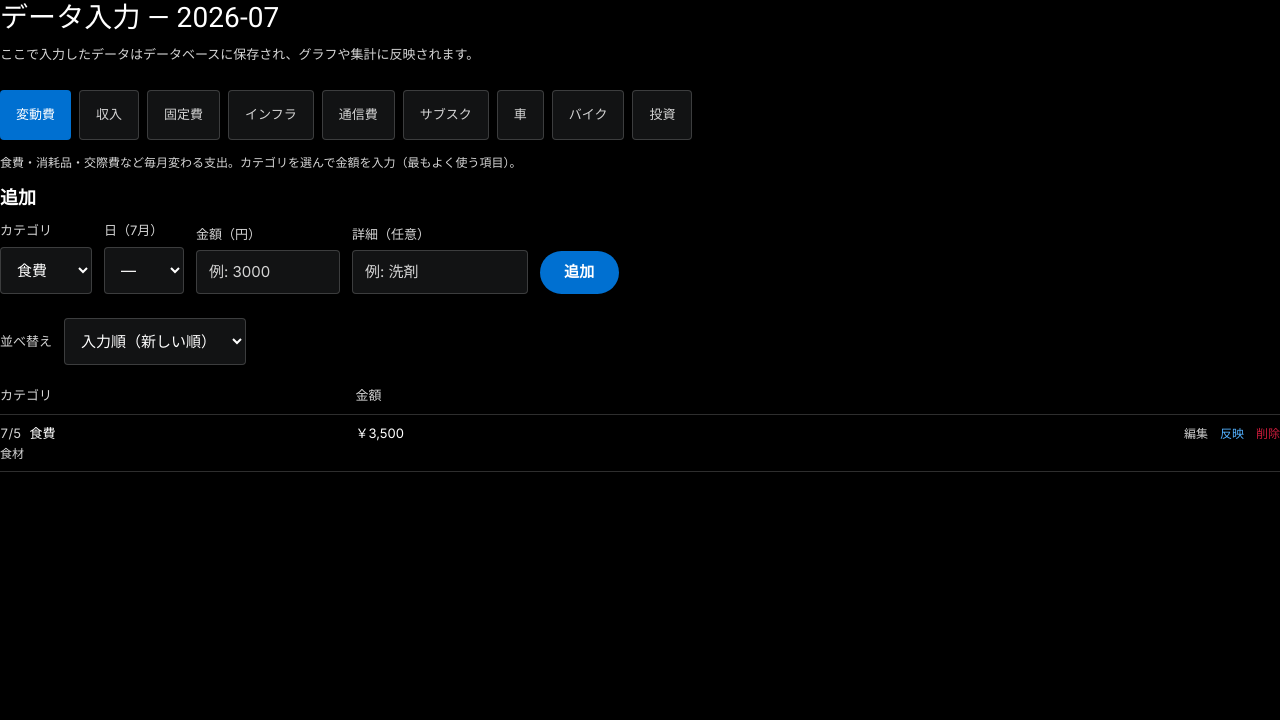
it: EntryTab - 割り勘アプリへの反映 › 反映に失敗したらダイアログ内にエラーを出し、一覧は変えない
The width and height of the screenshot is (1280, 720).
Click the button "反映": [1232, 433] box top-left (1220, 424), bottom-right (1244, 443)
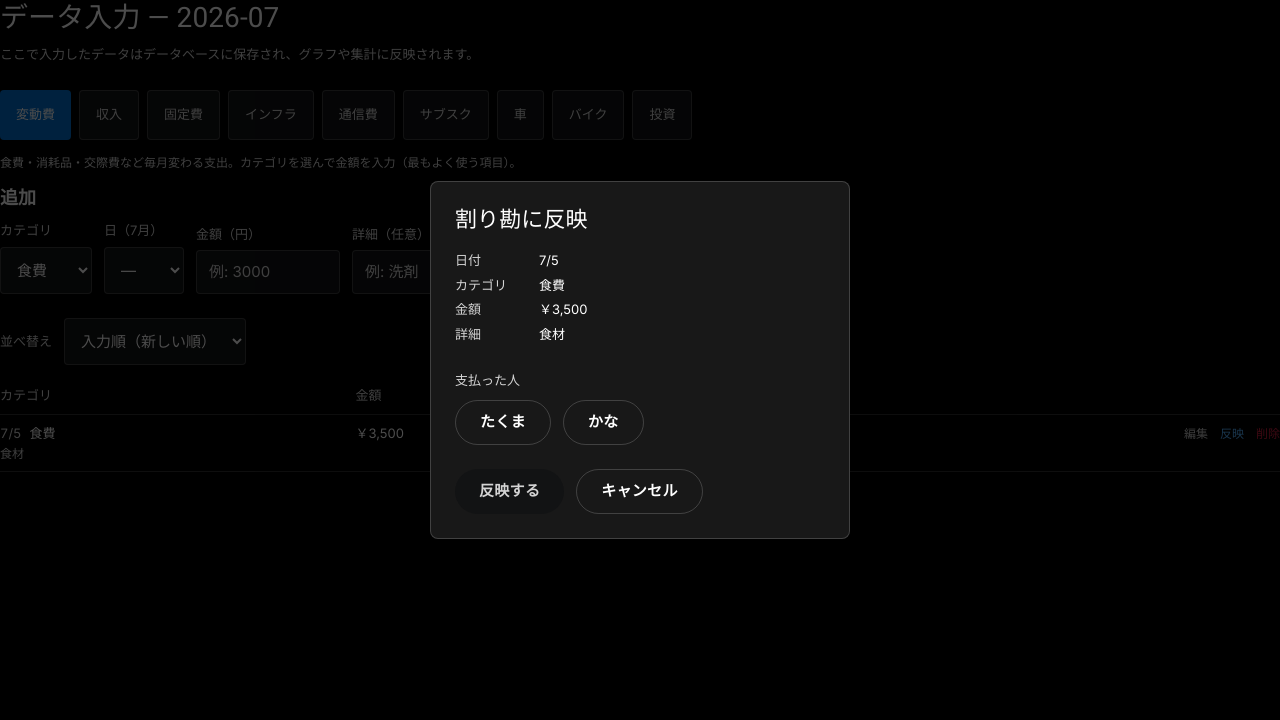
Click the radio button labelled "かな": [603, 423] box top-left (563, 400), bottom-right (644, 445)
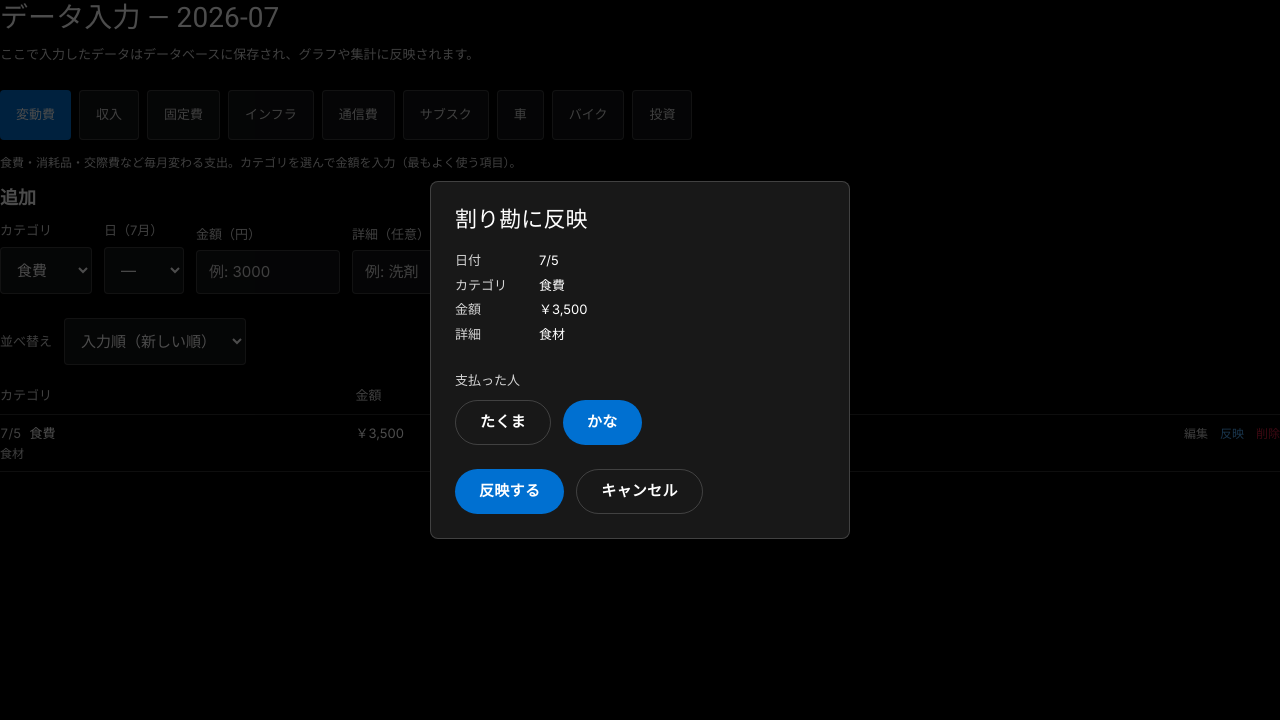
Click the button "反映する": [510, 491] box top-left (455, 469), bottom-right (564, 514)
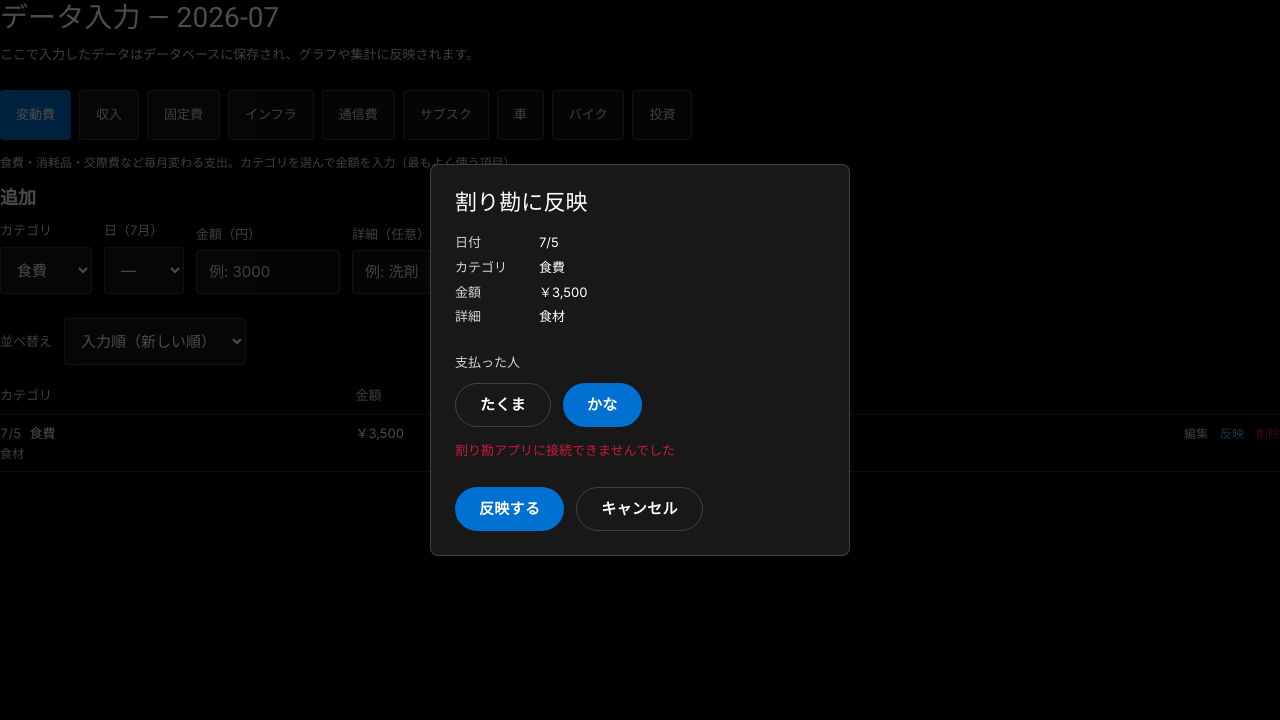
Check: the text "割り勘アプリに接続できませんでした" is shown, box top-left (455, 442), bottom-right (675, 458)
